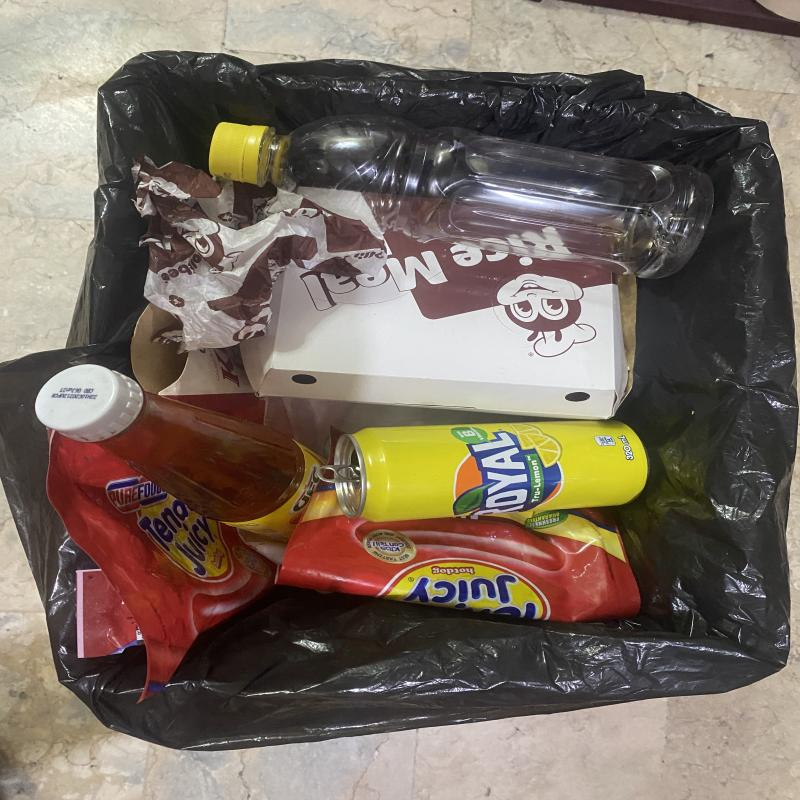aluminum: (316, 421, 648, 522)
cardboard: (230, 213, 638, 422), (130, 306, 258, 397)
food wrapper: (46, 429, 288, 702), (278, 489, 639, 621)
glass bottle: (34, 365, 325, 542)
paper: (127, 153, 386, 354)
plastic bottle: (209, 115, 716, 282)
